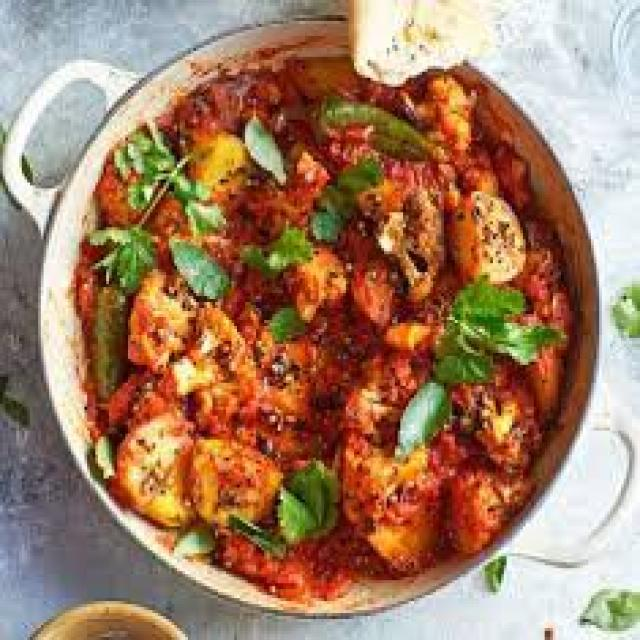aloo_gobi: (72, 46, 599, 584)
